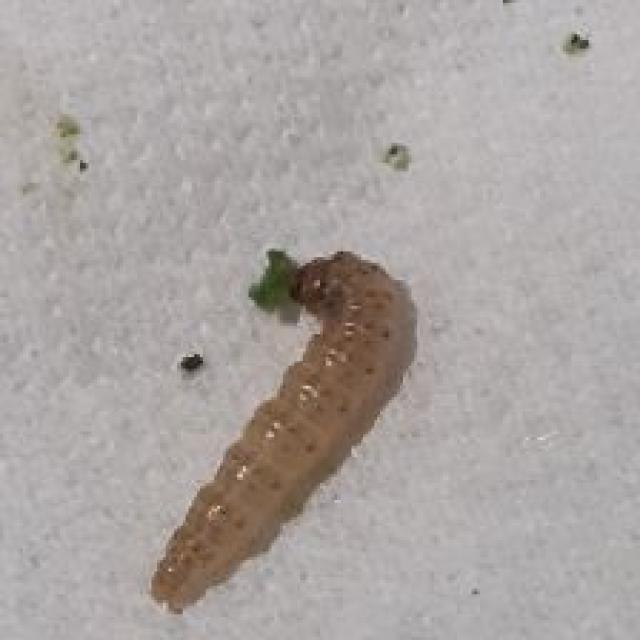white mucus: (124, 244, 471, 633)
